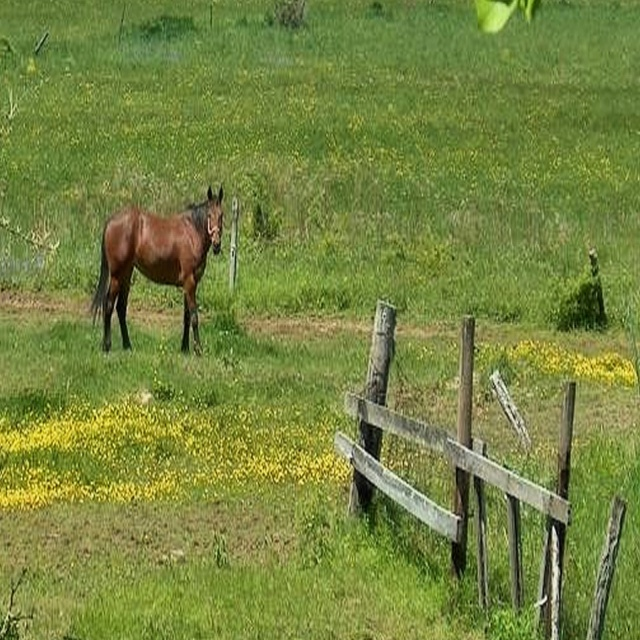Horse: (86, 179, 222, 359)
